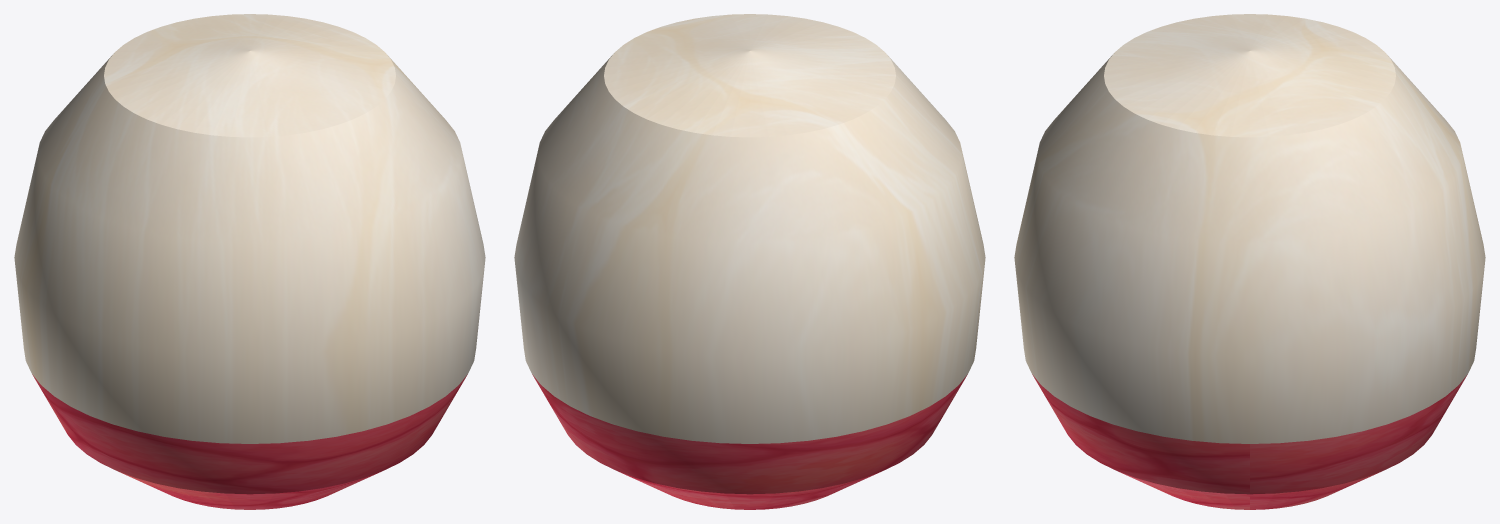
File: lychee-DiEWwrVN.glb
3 views of the same model, side by side, from view 1: azimuth 30°, elevation 25°; view 2: azimuth 150°, elevation 25°; view 3: azimuth 270°, elevation 25° (orthographic).
Visible parts, largest first — view 1: HI_lychee; view 2: HI_lychee; view 3: HI_lychee.
Part boxes in pixels (<box>): HI_lychee: <box>14,14,485,509</box>; HI_lychee: <box>514,14,985,509</box>; HI_lychee: <box>1014,14,1485,509</box>.
Size of the model in its own units: 0.62 by 0.6 by 0.62.
Materials: 1 (1 with a texture image).
